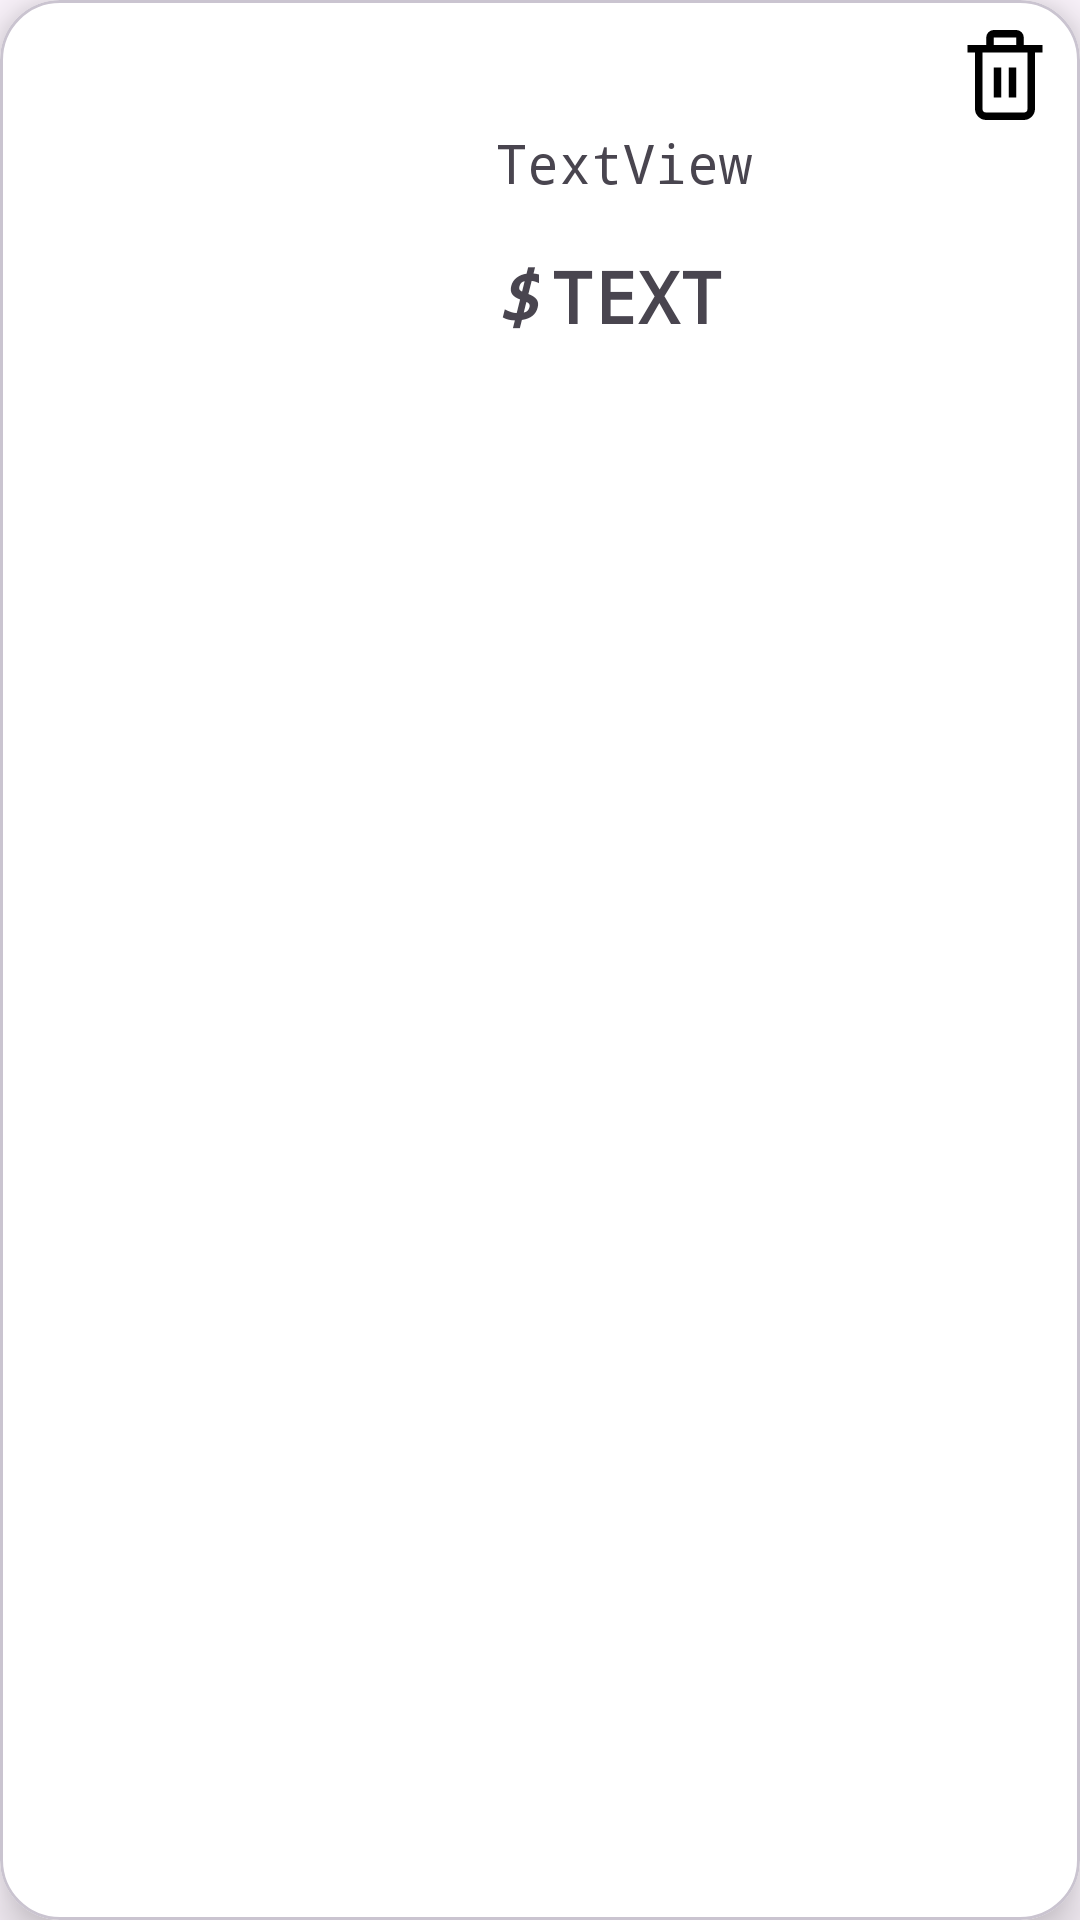

Where icons sit on this 1080px x 1920px app screen, as (left=x1, top=y1, right=x2, bottom=y2):
trash: (left=967, top=30, right=1043, bottom=120)
